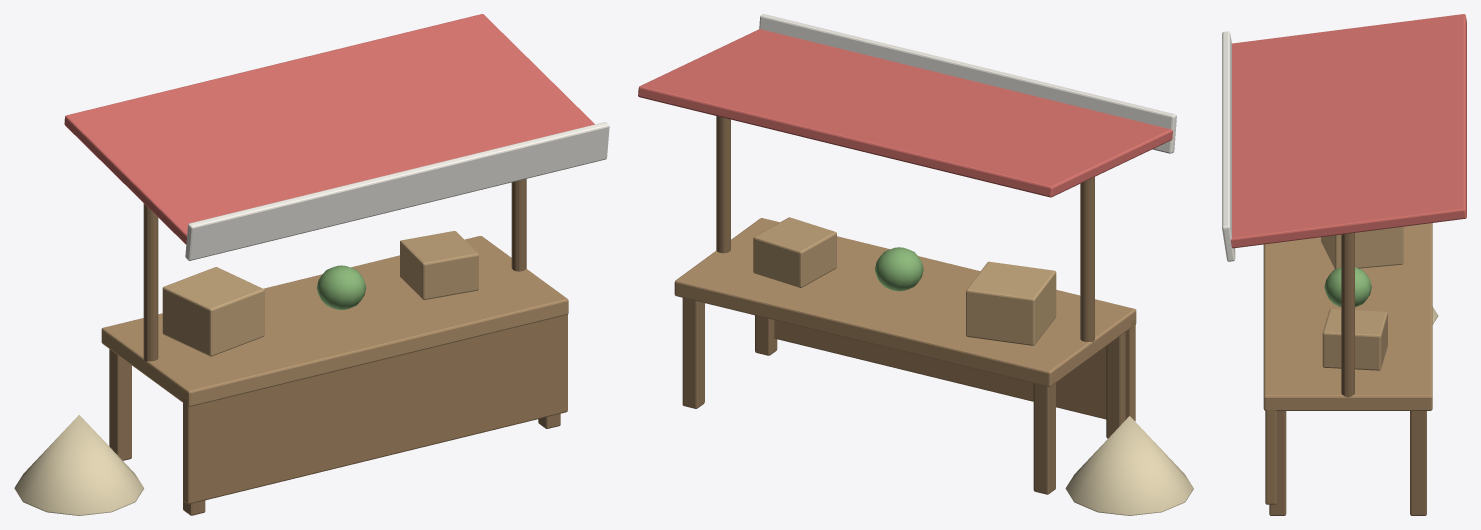
Rendered from market_stall.fbx.
3 renders of one model, left to right at view 1: azimuth 30°, elevation 25°; view 2: azimuth 150°, elevation 25°; view 3: azimuth 270°, elevation 25°, orthographic. The views are drawn at different scales.
Visible parts, largest first — view 1: market_stall; view 2: market_stall; view 3: market_stall.
Boxes of the visible parts, left/top/right/bottom form: market_stall: left=14, top=14, right=609, bottom=515; market_stall: left=638, top=14, right=1193, bottom=515; market_stall: left=1222, top=14, right=1466, bottom=515.
Size of the model in its own units: 1427 by 894 by 623.
